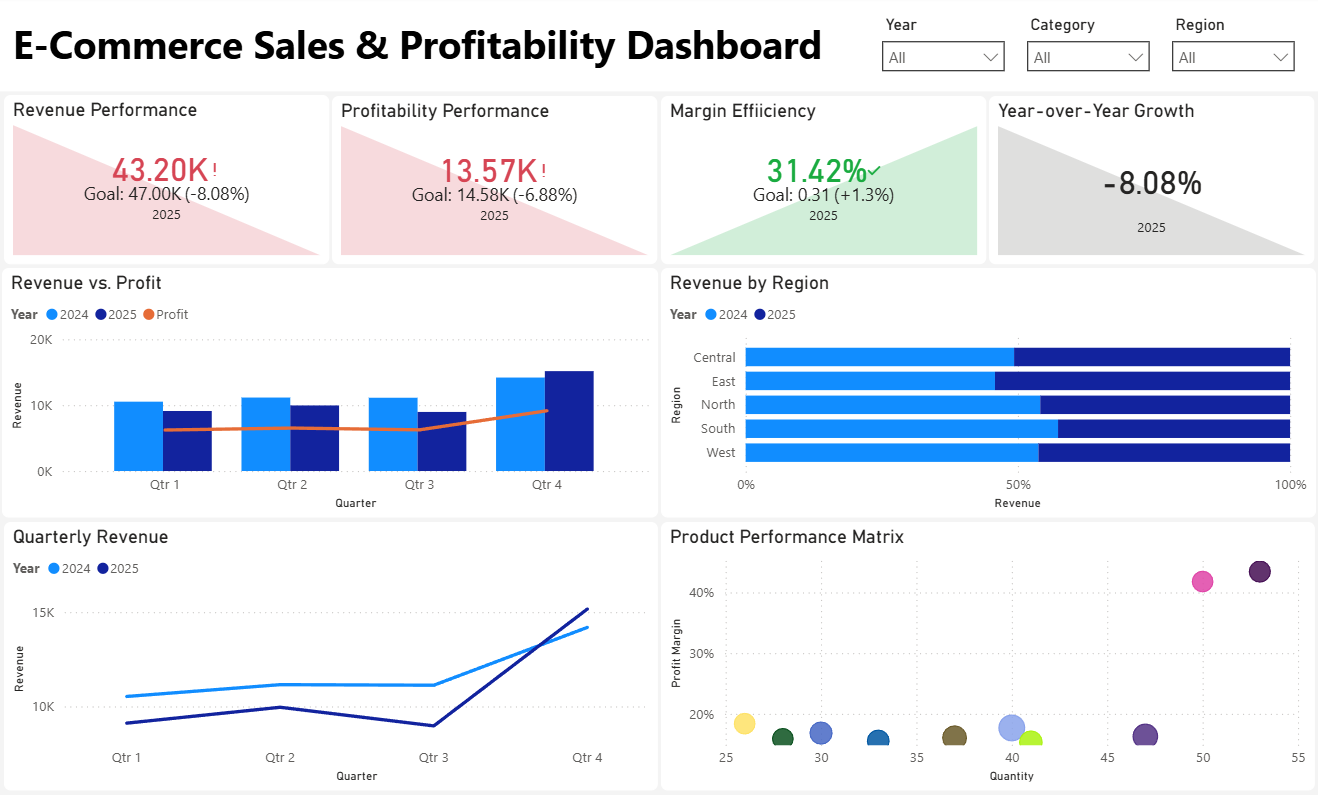

This screenshot's page, from the dashboard's own definition file:
{"tool":"powerbi","page":{"name":"Dashboard","canvas":[1190,720],"ordinal":0},"visuals":[{"type":"shape","box":[0,0,1280,85.6],"z":0},{"type":"kpi","title":"Revenue Performance","fields":{"Goal":["Worksheet.Total Revenue PY"],"Indicator":["Worksheet.Total Revenue"],"TrendLine":["Calendar.Date.Variation.Date Hierarchy.Year"]},"box":[7.2,88.6,292.1,151.9],"z":1000},{"type":"kpi","title":"Profitability Performance","fields":{"TrendLine":["Calendar.Date.Variation.Date Hierarchy.Year"],"Indicator":["Worksheet.Total Profit"],"Goal":["Worksheet.Total Profit PY"]},"box":[302,89.5,292.1,151],"z":2000},{"type":"kpi","title":"Margin Effiiciency","fields":{"TrendLine":["Calendar.Date.Variation.Date Hierarchy.Year"],"Indicator":["Worksheet.Profit Margin %"],"Goal":["Worksheet.Profit Margin % PY"]},"box":[596.8,89.5,292.1,151],"z":3000},{"type":"kpi","title":"Year-over-Year Growth","fields":{"TrendLine":["Calendar.Date.Variation.Date Hierarchy.Year"],"Indicator":["Worksheet.YoY Revenue Growth %"]},"box":[891.6,89.5,292.1,151],"z":4000},{"type":"lineClusteredColumnComboChart","title":"Revenue vs. Profit","fields":{"Y":["Sum(Worksheet.Revenue)"],"Y2":["Sum(Worksheet.Profit)"],"Series":["Calendar.Date.Variation.Date Hierarchy.Year"],"Category":["Calendar.Date.Variation.Date Hierarchy.Quarter"]},"box":[5.4,244.2,588.7,224.3],"z":5000},{"type":"hundredPercentStackedBarChart","title":"Revenue by Region","fields":{"Category":["Worksheet.Region"],"Y":["Worksheet.Total Revenue"],"Series":["Calendar.Date.Variation.Date Hierarchy.Year"]},"box":[596.8,244.2,587.8,224.3],"z":6000},{"type":"lineChart","title":"Quarterly Revenue","fields":{"Series":["Calendar.Date.Variation.Date Hierarchy.Year"],"Y":["Sum(Worksheet.Revenue)"],"Category":["Calendar.Date.Variation.Date Hierarchy.Quarter"]},"box":[7.2,472,586.9,241.4],"z":7000},{"type":"scatterChart","title":"Product Performance Matrix","fields":{"X":["Sum(Worksheet.Quantity)"],"Y":["Avg(Worksheet.Profit Margin)"],"Category":["Worksheet.Product Name"],"Series":["Worksheet.Product Name"],"Size":["Sum(Worksheet.Revenue)"]},"box":[596.8,472,586.9,241.4],"z":8000},{"type":"slicer","fields":{"Values":["Calendar.Date.Variation.Date Hierarchy.Year"]},"box":[785.8,12.7,130.2,59.7],"z":9000},{"type":"slicer","fields":{"Values":["Worksheet.Category"]},"box":[916,12.7,130.2,59.7],"z":10000},{"type":"slicer","fields":{"Values":["Worksheet.Region"]},"box":[1046.2,12.7,130.2,59.7],"z":11000}]}

Visuals, with their boxes in screenshot pixels (x1, y1, x2, y2), scaled from the page's 1190x720 canvas onto the 1318x795 screenshot:
shape: rect(0, 0, 1317, 95)
"Revenue Performance" kpi: rect(8, 98, 331, 266)
"Profitability Performance" kpi: rect(334, 99, 658, 266)
"Margin Effiiciency" kpi: rect(661, 99, 985, 266)
"Year-over-Year Growth" kpi: rect(988, 99, 1311, 266)
"Revenue vs. Profit" lineClusteredColumnComboChart: rect(6, 270, 658, 517)
"Revenue by Region" hundredPercentStackedBarChart: rect(661, 270, 1312, 517)
"Quarterly Revenue" lineChart: rect(8, 521, 658, 788)
"Product Performance Matrix" scatterChart: rect(661, 521, 1311, 788)
slicer - Calendar.Date.Variation.Date Hierarchy.Year: rect(870, 14, 1015, 80)
slicer - Worksheet.Category: rect(1015, 14, 1159, 80)
slicer - Worksheet.Region: rect(1159, 14, 1303, 80)
